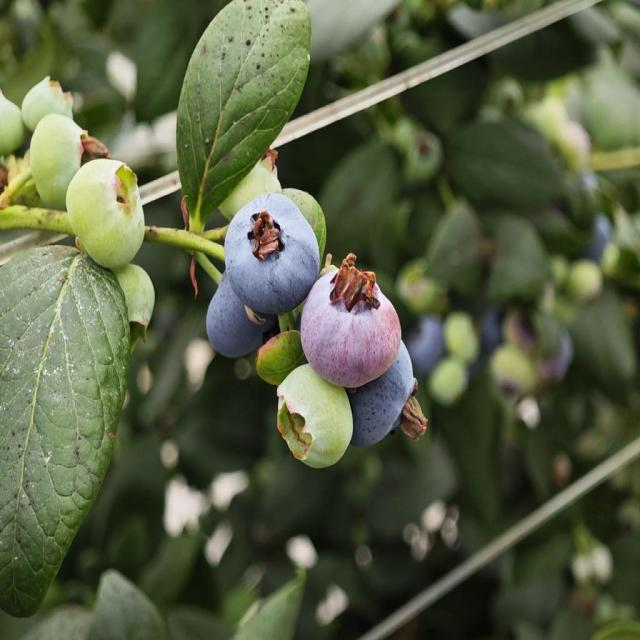RipeBlueBerry: (226, 187, 320, 317)
Semi-RipeBlueBerry: (304, 267, 402, 387)
UnripeBlueBerry: (68, 158, 148, 268), (278, 360, 354, 467)
